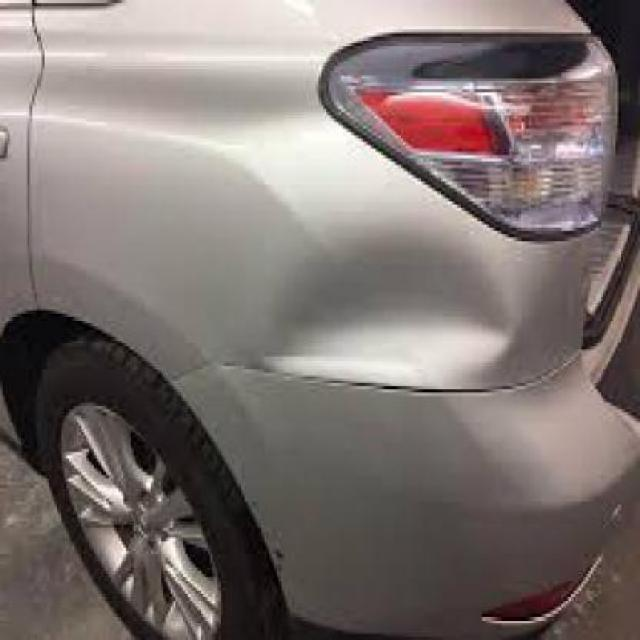dent: (255, 225, 521, 391)
